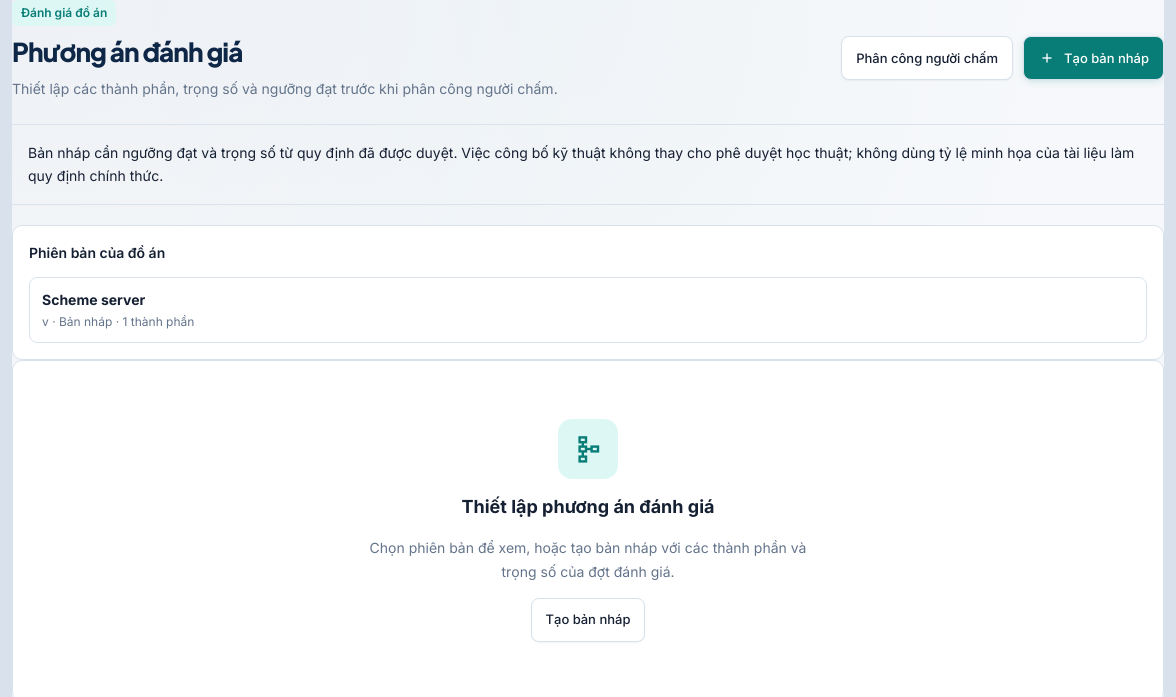
does not retain editable authority when reload is forbidden
Click the button "Scheme server v · Bản nháp · 1 thành phần": (94, 299) [29,277,1147,343]
(page scrolled)
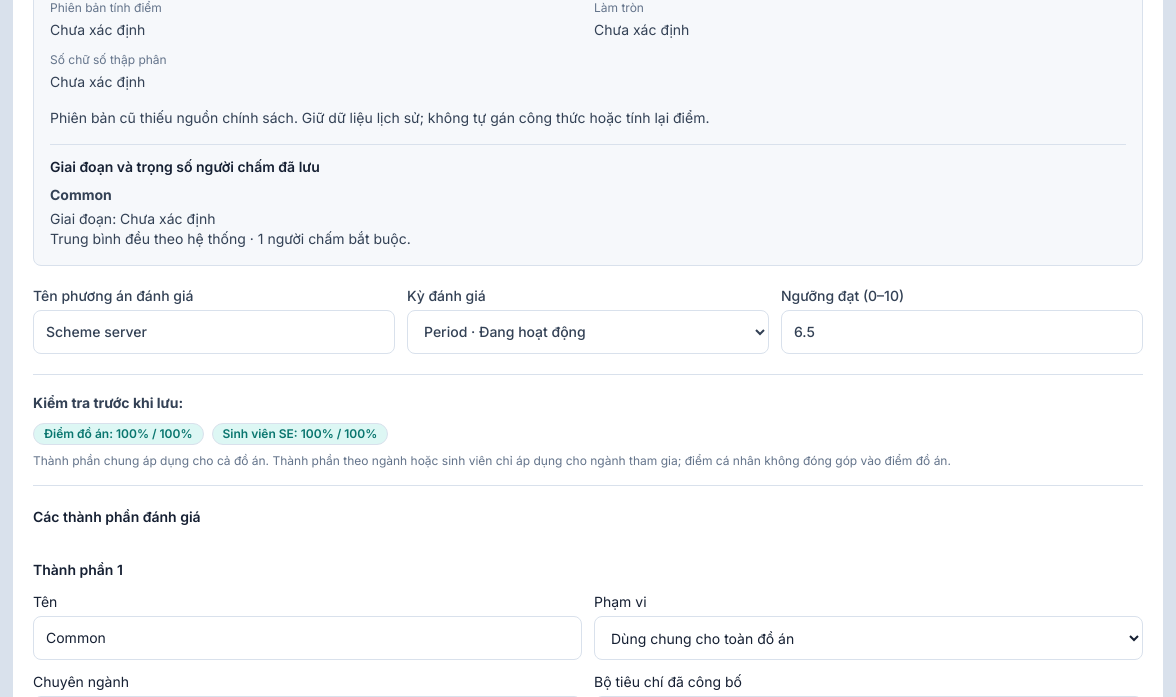
Submit the form named "Tên phương án đánh giá"
(page scrolled)
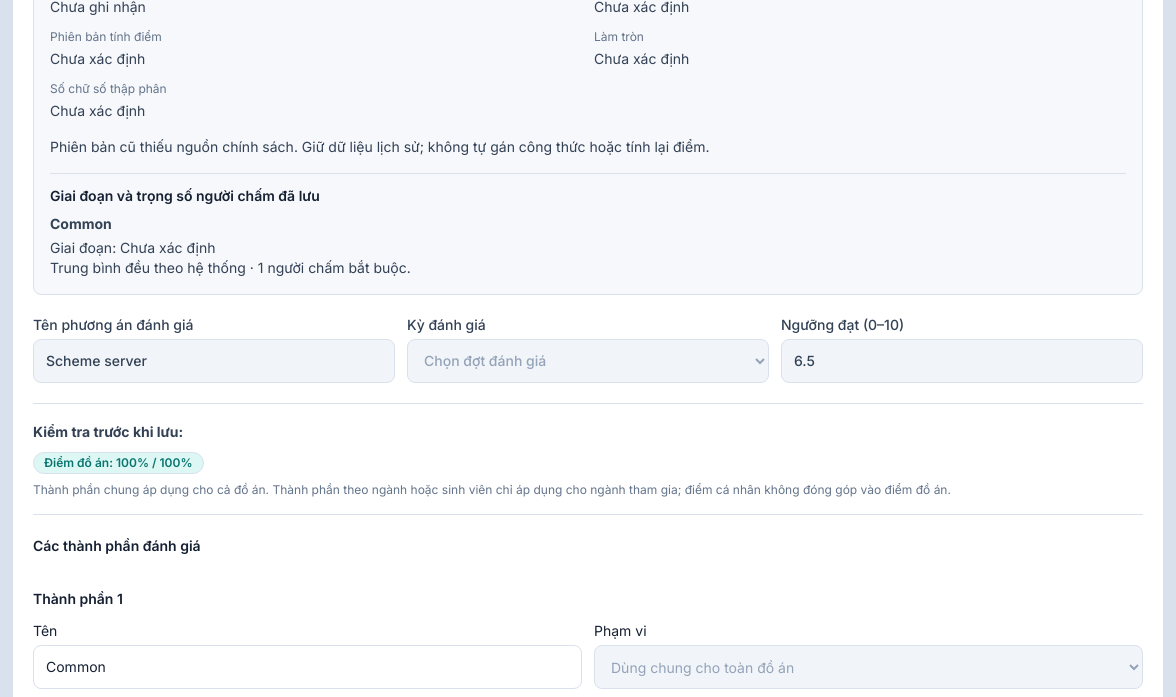
expect the field labelled "Tên phương án đánh giá" is disabled: met, box [33,339,395,383]
